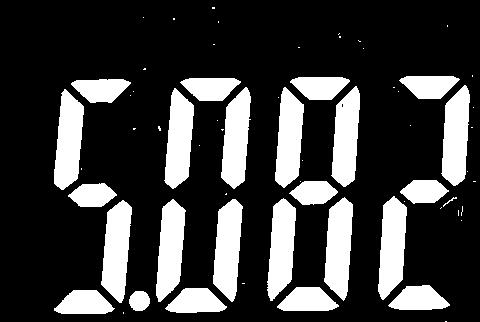0: (152, 72, 255, 315)
2: (373, 70, 475, 317)
5: (50, 75, 133, 318)
8: (269, 72, 361, 313)
dot: (130, 290, 150, 314)
